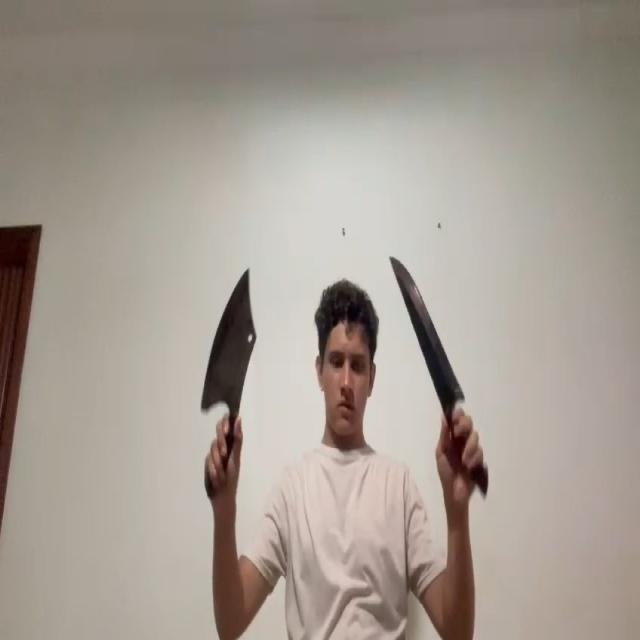knife: (389, 252, 463, 401), (201, 268, 258, 413)
